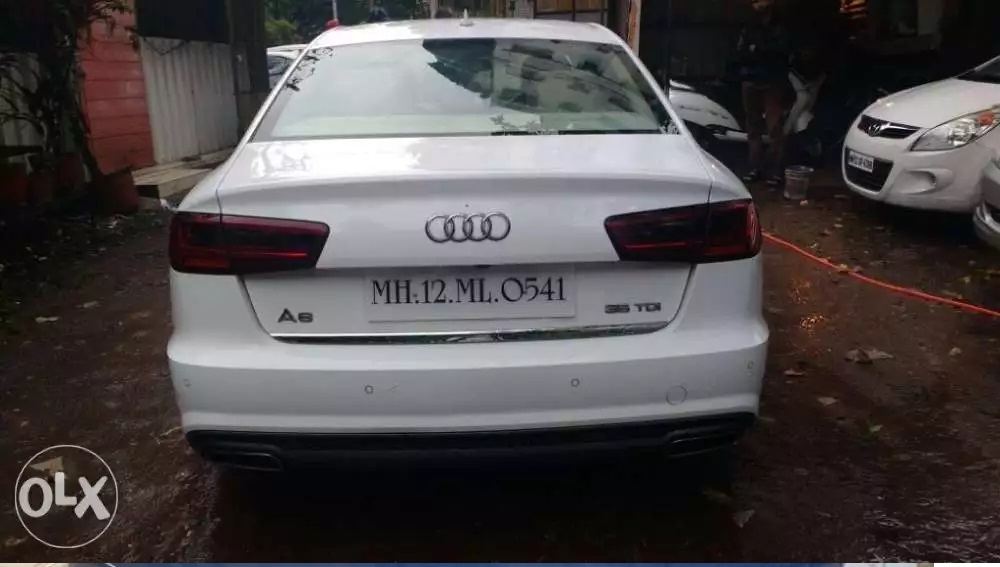licenseplate: (360, 264, 584, 319)
